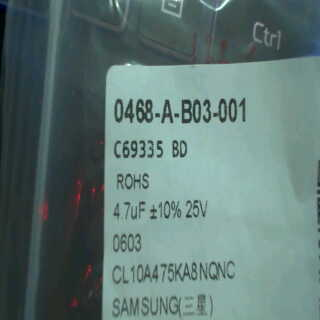4.7uF: (110, 197, 146, 227)
